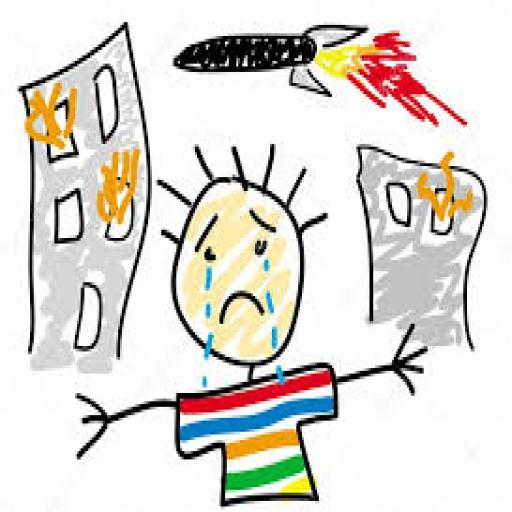person: (70, 140, 433, 504)
